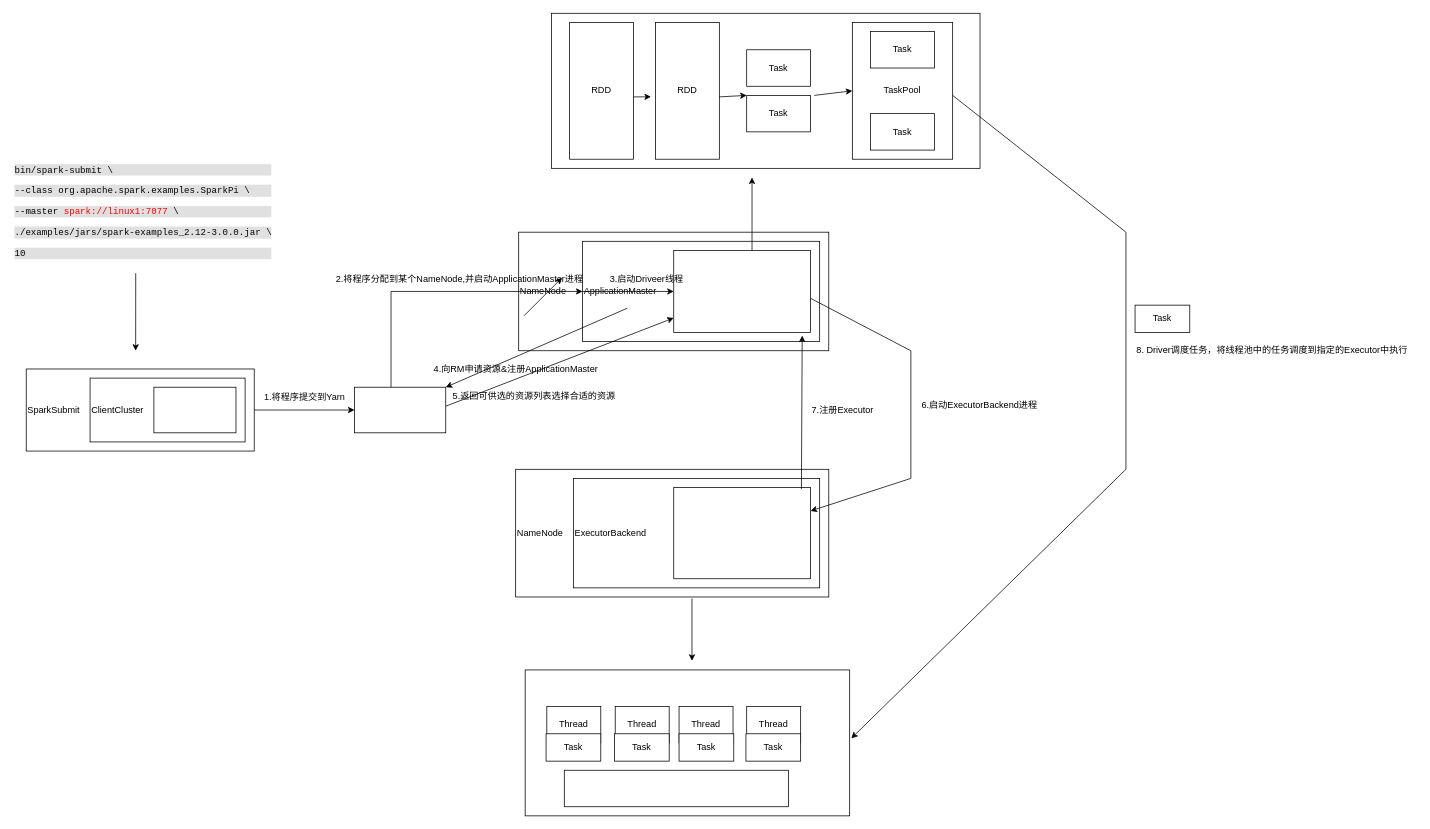
Image size: 1430x829. Some labels were removed from this diagram. The centre of each missing label's shape, as x and y in pixels:
Client: point 194,409
Driver(启动Driver进程后会执行自己程序的main方法，准备号SparkContext环境，但不会继续执行完，因为没有资源): point 742,291
Executor(计算对象): point 742,533
Executor线程池，允许多任务并行执行: point 676,788
ResourceManage: point 400,409
